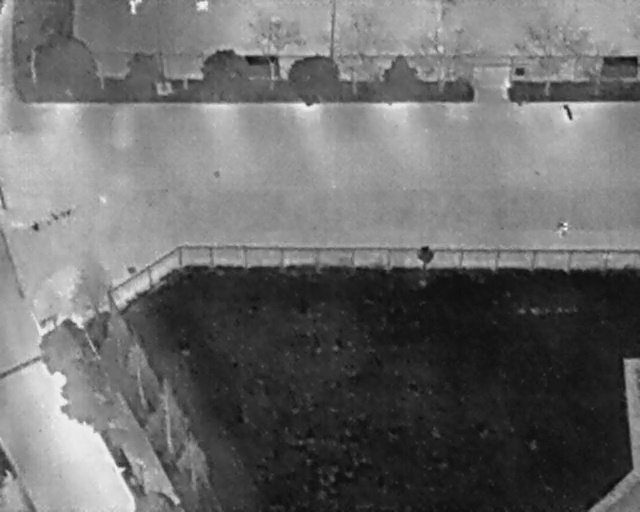Person: (554, 218, 569, 238), (192, 0, 211, 12), (126, 0, 143, 13)
